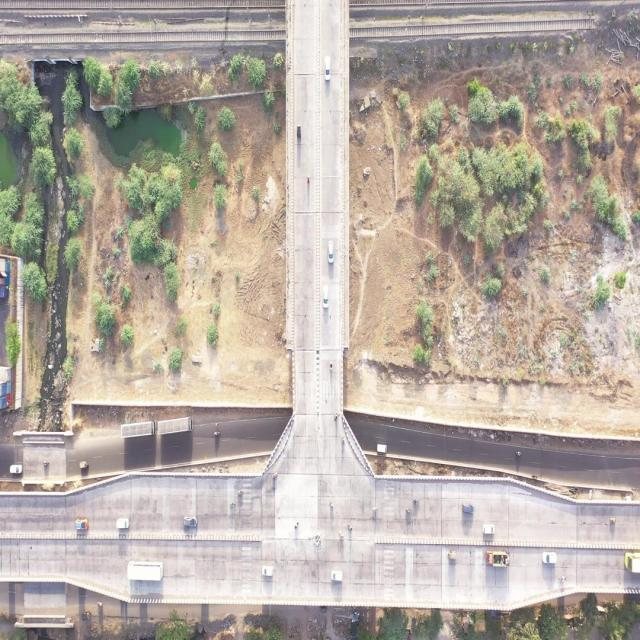3W: (296, 122, 303, 141), (447, 549, 458, 561), (81, 609, 92, 621), (78, 460, 90, 470)
Bus: (127, 560, 164, 582), (120, 420, 157, 439), (158, 416, 193, 436)
Cars: (540, 551, 558, 567), (182, 513, 198, 530), (323, 55, 332, 82), (74, 517, 90, 532), (327, 240, 336, 265), (322, 284, 330, 312), (330, 569, 344, 584), (462, 501, 476, 516), (482, 522, 496, 536), (116, 518, 131, 531), (9, 464, 24, 476), (261, 565, 274, 578), (376, 442, 388, 456)
M2W: (328, 499, 337, 511), (338, 530, 346, 543), (293, 518, 301, 530), (305, 172, 311, 188), (237, 488, 246, 498), (558, 574, 568, 583), (608, 516, 618, 525), (347, 521, 354, 533), (339, 434, 346, 446), (411, 497, 420, 506), (405, 506, 413, 516), (96, 600, 104, 609), (41, 460, 51, 467), (329, 359, 334, 373), (213, 429, 221, 437), (513, 449, 522, 456), (334, 411, 339, 423), (228, 501, 236, 508), (531, 472, 538, 480), (272, 472, 278, 481), (373, 506, 379, 513)
MAV: (485, 549, 511, 571)
